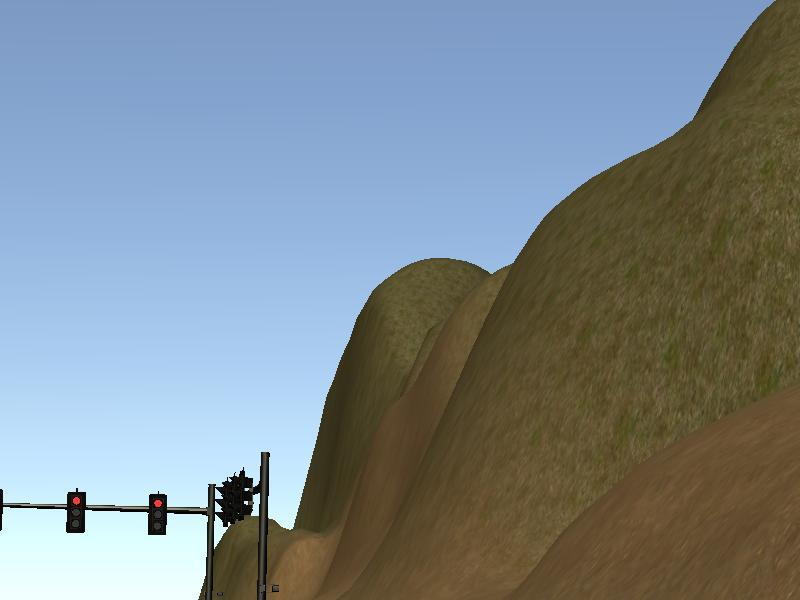Red: (148, 495, 166, 536), (66, 492, 84, 533)
